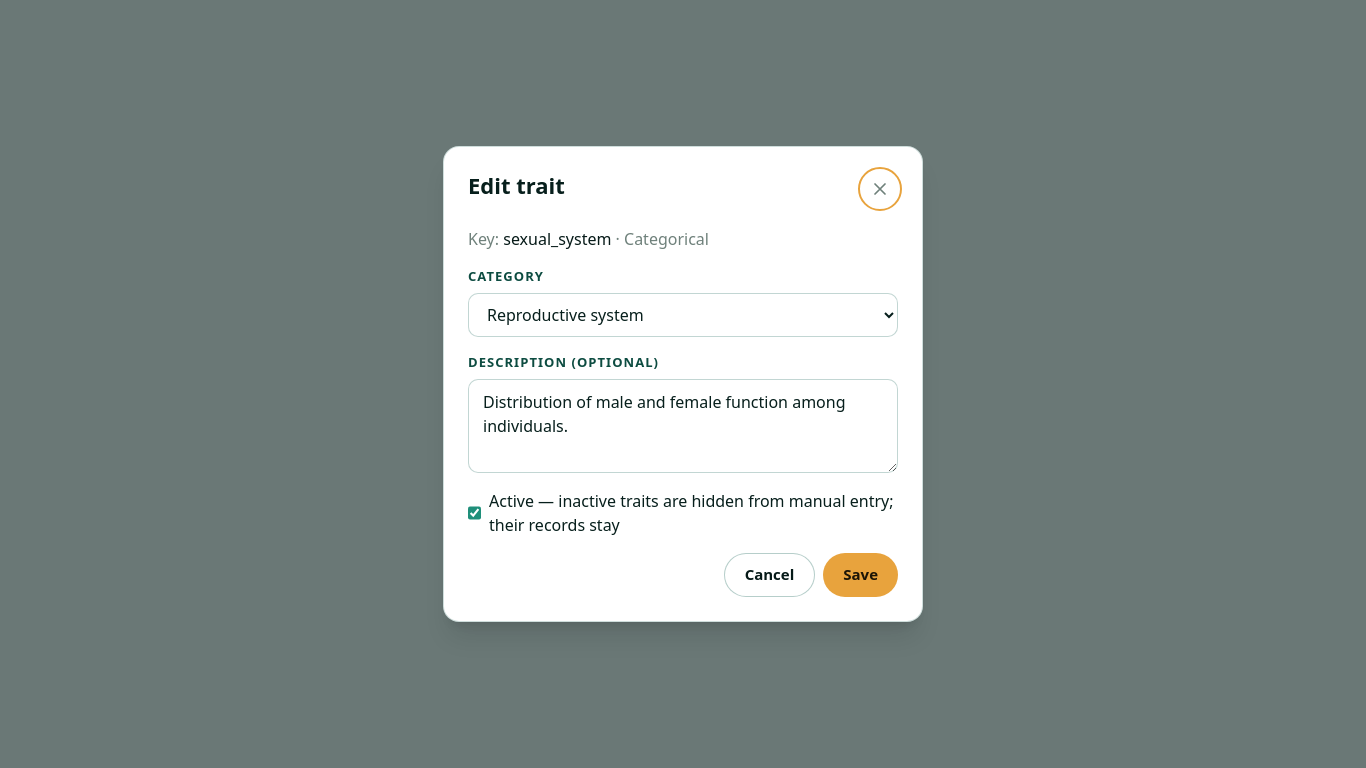
Test: RFC-62 R6 EditTraitDialog › maps TRAIT_NOT_FOUND to its sentence
This screenshot has width=1366, height=768.
Click the checkbox labelled "Active": (474, 513) [468,505,481,521]
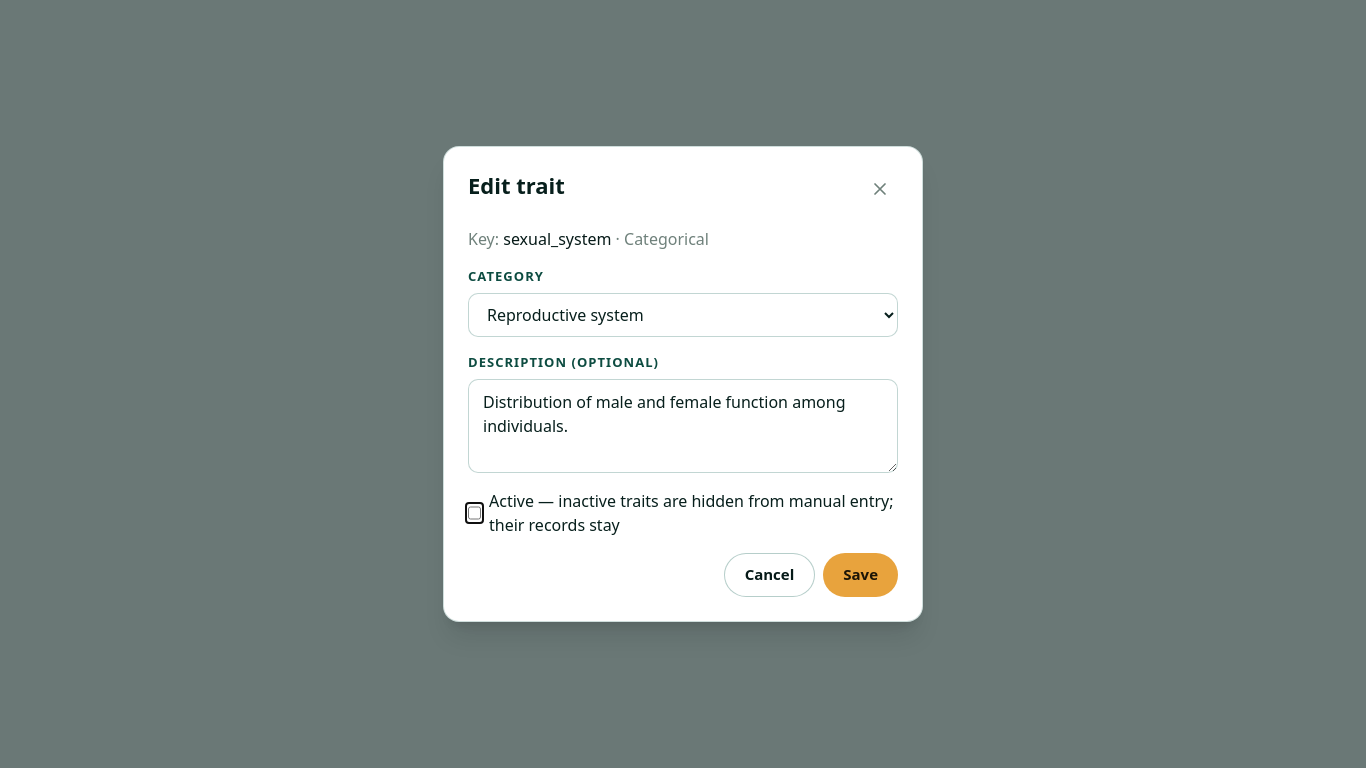
Click the button "Save": (861, 575) [823,553,898,597]
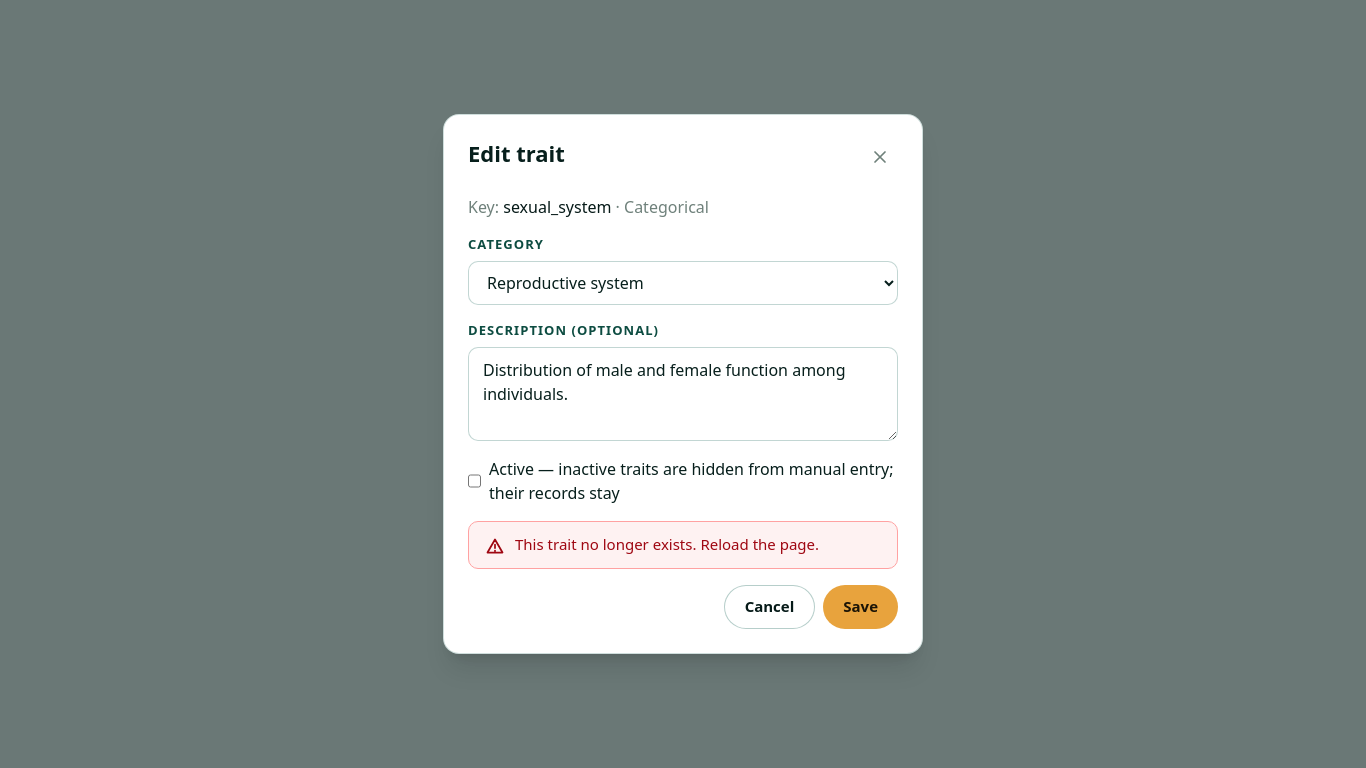
Now the message reads "This trait no longer exists. Reload the page.", box [515,534,819,554]
